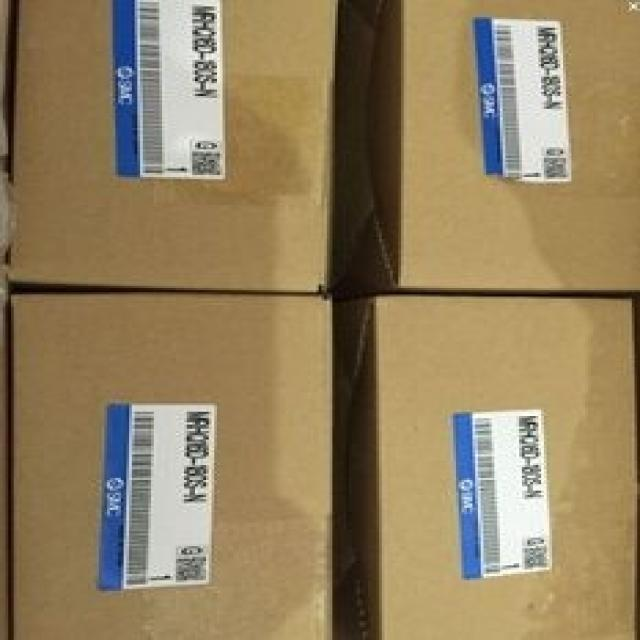box: (1, 294, 334, 637), (331, 295, 637, 638), (6, 1, 336, 295), (332, 3, 636, 299)
